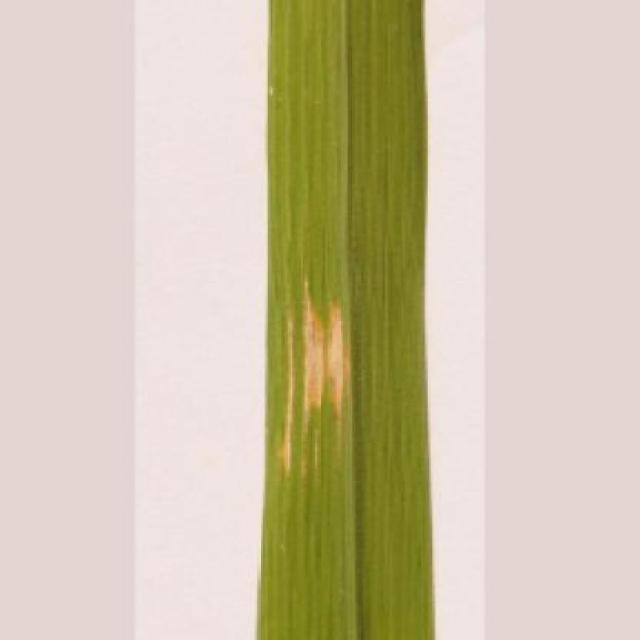Brown_Spot: (260, 0, 438, 640)
